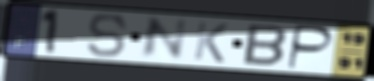1: (38, 8, 63, 56)
B: (240, 22, 290, 68)
K: (191, 20, 231, 65)
N: (137, 16, 191, 61)
P: (285, 23, 337, 71)
S: (87, 12, 131, 59)
